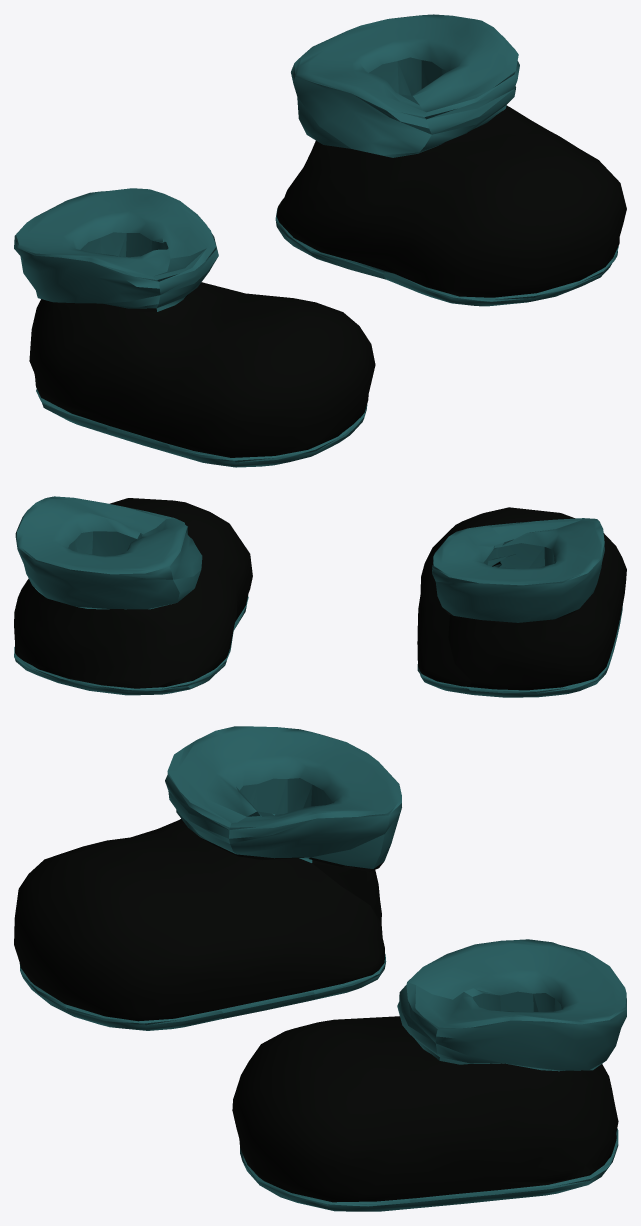
The picture shows the model from 3 angles, top to bottom: view 1: azimuth 30°, elevation 25°; view 2: azimuth 150°, elevation 25°; view 3: azimuth 270°, elevation 25°; orthographic projection. The views are drawn at different scales.
Visible parts, largest first — view 1: 338; view 2: 338; view 3: 338.
Boxes of the visible parts, bbox=[...] form: 338: bbox=[14, 14, 626, 467]; 338: bbox=[14, 496, 626, 697]; 338: bbox=[14, 726, 626, 1211].
Bounding box in the file's own units: 97.47 × 78.14 × 25.72.
